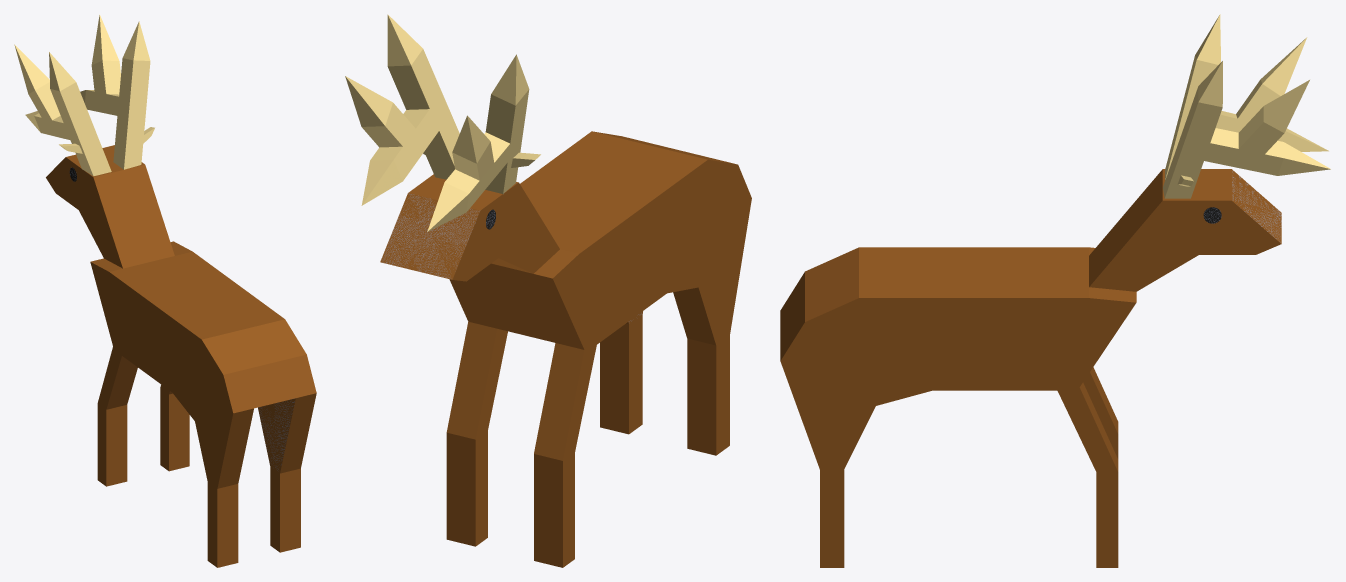
Rendered from shitty_deer_model.dae.
The picture shows the model from 3 angles, left to right: view 1: azimuth 30°, elevation 25°; view 2: azimuth 150°, elevation 25°; view 3: azimuth 270°, elevation 25°; orthographic projection. The views are drawn at different scales.
Visible parts, largest first — view 1: SketchUp (×4); view 2: SketchUp (×4); view 3: SketchUp (×4).
Part boxes in pixels (left/top/right/bottom): SketchUp (×4): left=14, top=14, right=316, bottom=567; SketchUp (×4): left=345, top=14, right=751, bottom=567; SketchUp (×4): left=780, top=14, right=1330, bottom=567.
Size of the model in its own units: 1.37 by 5.52 by 5.62.
